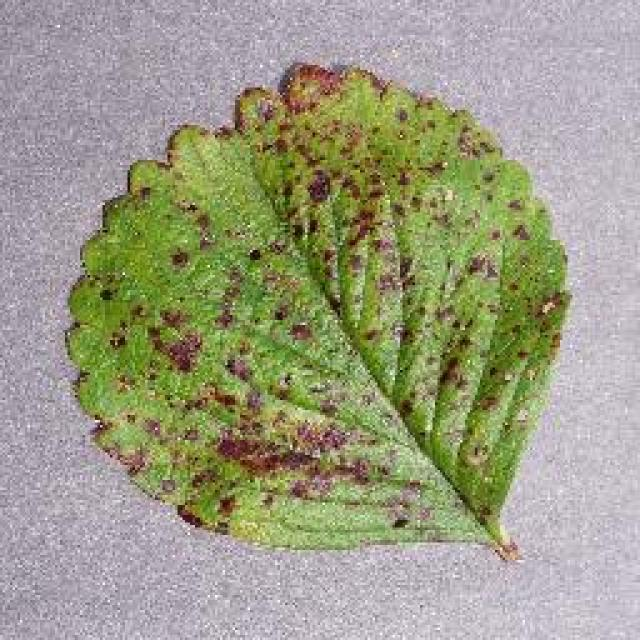Strawberry leaf scorch: (50, 91, 517, 546)
